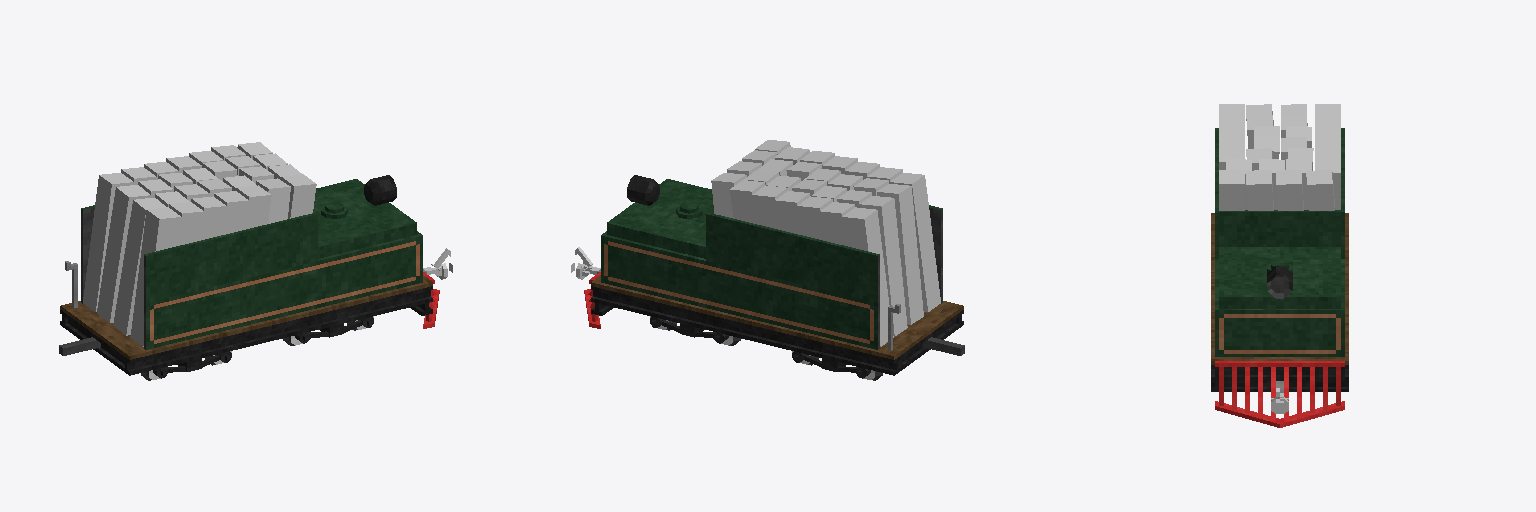
3 views of the same model, side by side, from view 1: azimuth 30°, elevation 25°; view 2: azimuth 150°, elevation 25°; view 3: azimuth 270°, elevation 25° (orthographic).
Parts seen in each view (by area): view 1: CARGO_FILL_1, FRAME.body, FRAME, FRAME.extend, WIDGET_1_TOGGLE_CG_headrear_LABEL_Rear^Headlight, COUPLER_ENGAGED_REAR_2_TOGGLE_LABEL_Uncouple, BOGEY_FRONT, BOGEY_REAR; view 2: CARGO_FILL_1, FRAME.body, FRAME, FRAME.extend, WIDGET_1_TOGGLE_CG_headrear_LABEL_Rear^Headlight, COUPLER_ENGAGED_REAR_2_TOGGLE_LABEL_Uncouple, BOGEY_FRONT, BOGEY_REAR; view 3: FRAME.body, CARGO_FILL_1, FRAME.extend, COUPLER_ENGAGED_REAR_2_TOGGLE_LABEL_Uncouple, FRAME, WIDGET_1_TOGGLE_CG_headrear_LABEL_Rear^Headlight.
Part boxes in pixels (bbox=[...]): CARGO_FILL_1: bbox=[83, 142, 316, 346]; FRAME.body: bbox=[81, 179, 422, 349]; FRAME: bbox=[60, 275, 432, 375]; FRAME.extend: bbox=[81, 205, 317, 302]; WIDGET_1_TOGGLE_CG_headrear_LABEL_Rear^Headlight: bbox=[364, 175, 396, 205]; COUPLER_ENGAGED_REAR_2_TOGGLE_LABEL_Uncouple: bbox=[423, 263, 452, 328]; BOGEY_FRONT: bbox=[153, 351, 231, 378]; BOGEY_REAR: bbox=[295, 317, 373, 343]; CARGO_FILL_1: bbox=[711, 140, 940, 346]; FRAME.body: bbox=[601, 179, 942, 349]; FRAME: bbox=[591, 275, 963, 375]; FRAME.extend: bbox=[706, 205, 942, 302]; WIDGET_1_TOGGLE_CG_headrear_LABEL_Rear^Headlight: bbox=[627, 175, 659, 205]; COUPLER_ENGAGED_REAR_2_TOGGLE_LABEL_Uncouple: bbox=[571, 261, 600, 328]; BOGEY_FRONT: bbox=[792, 351, 870, 378]; BOGEY_REAR: bbox=[650, 317, 728, 343]; FRAME.body: bbox=[1215, 247, 1344, 356]; CARGO_FILL_1: bbox=[1219, 104, 1340, 210]; FRAME.extend: bbox=[1215, 128, 1344, 258]; COUPLER_ENGAGED_REAR_2_TOGGLE_LABEL_Uncouple: bbox=[1215, 361, 1344, 427]; FRAME: bbox=[1211, 213, 1348, 391]; WIDGET_1_TOGGLE_CG_headrear_LABEL_Rear^Headlight: bbox=[1267, 266, 1292, 298].
Size of the model in its own units: 6.5 by 2.89 by 2.
Materials: 4 (2 with a texture image).